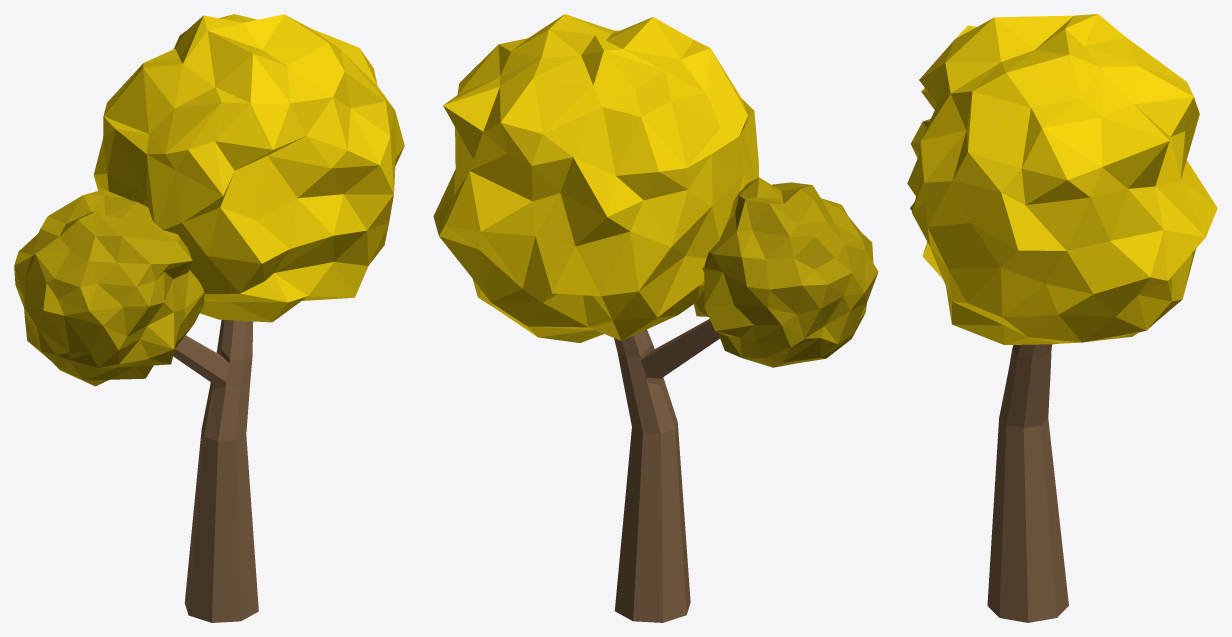
Rendered from treeAutumn.gltf.
3 renders of one model, left to right at view 1: azimuth 30°, elevation 25°; view 2: azimuth 150°, elevation 25°; view 3: azimuth 270°, elevation 25°, orthographic. The views are drawn at different scales.
Parts seen in each view (by area): view 1: Icosphere.002, Icosphere, Circle; view 2: Icosphere.002, Icosphere, Circle; view 3: Icosphere.002, Circle.
Boxes of the visible parts, <box> form: Icosphere.002: <box>93,14,404,322</box>; Icosphere: <box>14,189,204,386</box>; Circle: <box>173,320,258,622</box>; Icosphere.002: <box>433,14,758,342</box>; Icosphere: <box>693,177,878,367</box>; Circle: <box>614,319,719,622</box>; Icosphere.002: <box>907,14,1217,345</box>; Circle: <box>987,344,1068,622</box>.
Bounding box in the file's own units: 7.12 × 10.09 × 4.74.
